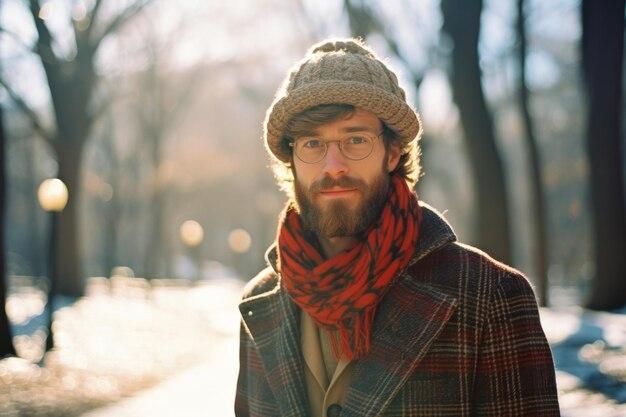cap: (259, 32, 429, 152)
sunglasses: (288, 128, 379, 166)
